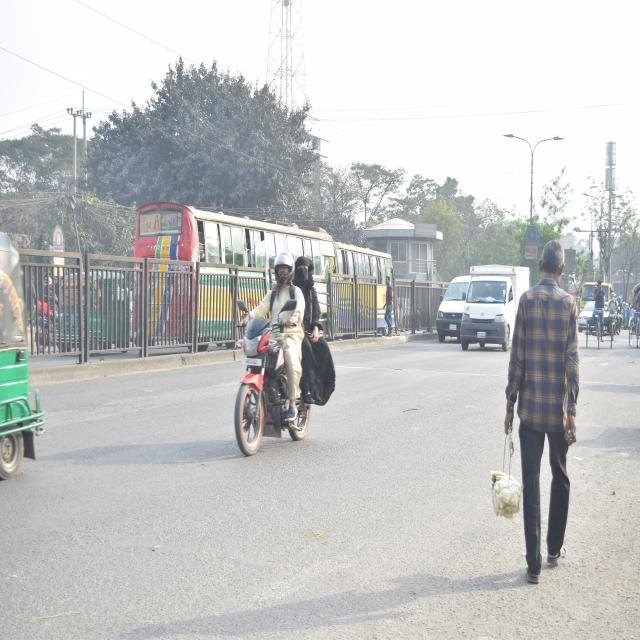bus: (145, 194, 336, 328), (332, 239, 398, 340)
car: (431, 276, 465, 342), (578, 294, 594, 331)
motorbike: (228, 313, 322, 454)
pickup-van: (459, 260, 527, 340)
